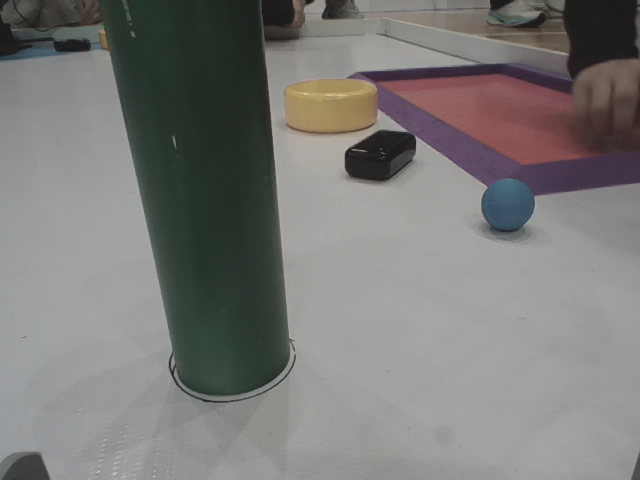black: (347, 130, 414, 184), (49, 38, 90, 53)
blue: (480, 176, 543, 236)
kuang: (344, 57, 640, 205)
yellow: (277, 77, 374, 133)
zhuzi: (97, 1, 298, 401)
